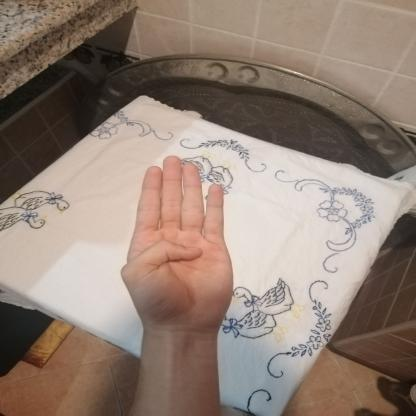KAAF: (102, 145, 254, 346)
